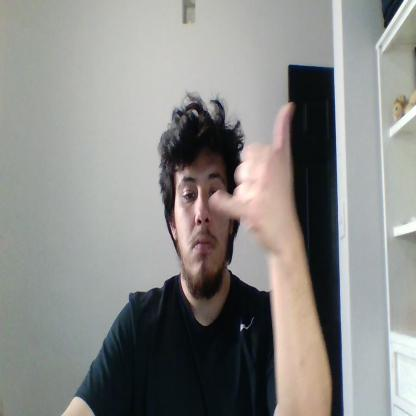Y: (210, 100, 298, 247)
